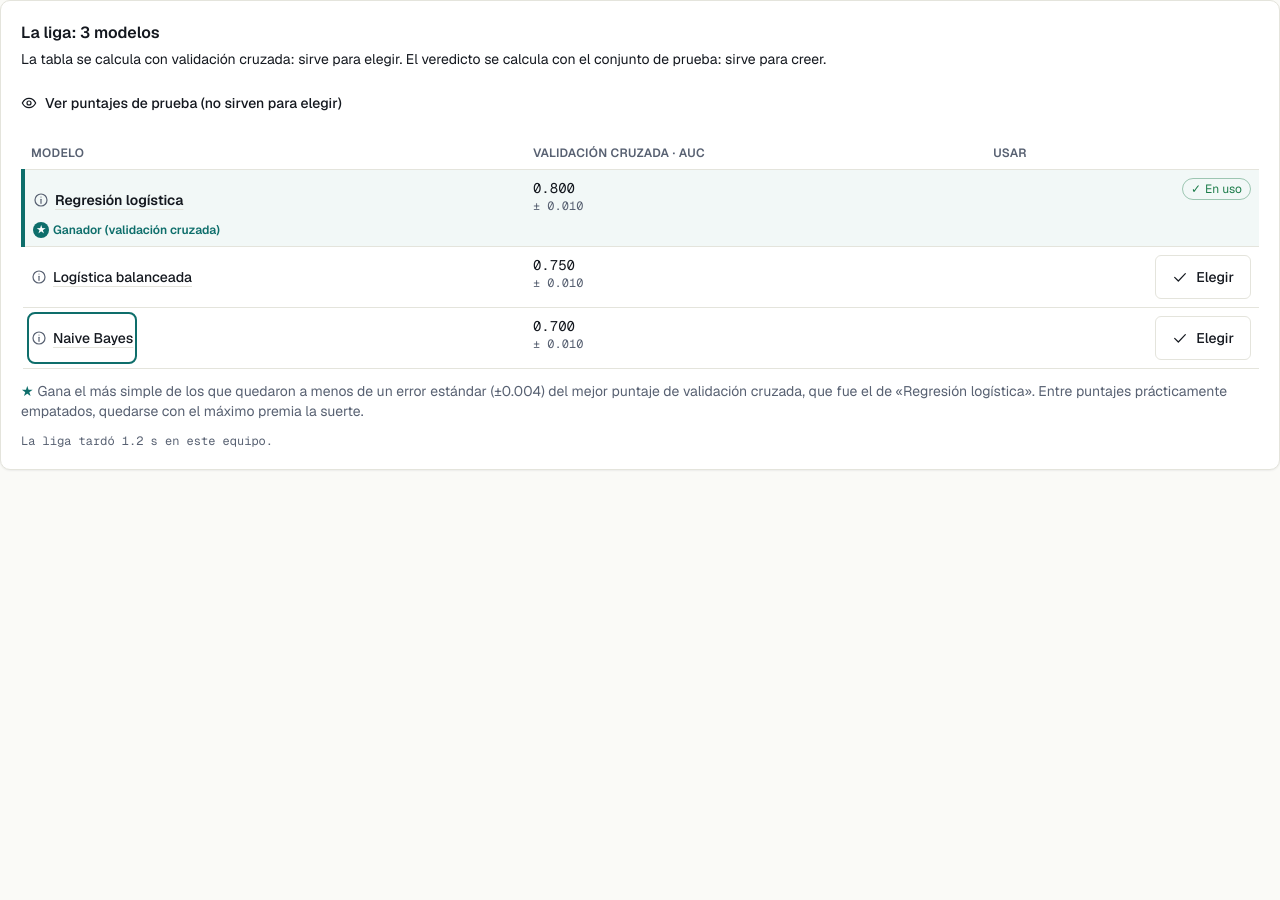
Test: FichaModelo (E3) — desde la tabla de la liga › el nombre abre su ficha: cinco apartados, la línea de estado y el foco vuelve al cerrar
The image size is (1280, 900).
Click the button with aria-label "Ficha de Naive Bayes".
click(82, 338)  # box [31,316,133,360]
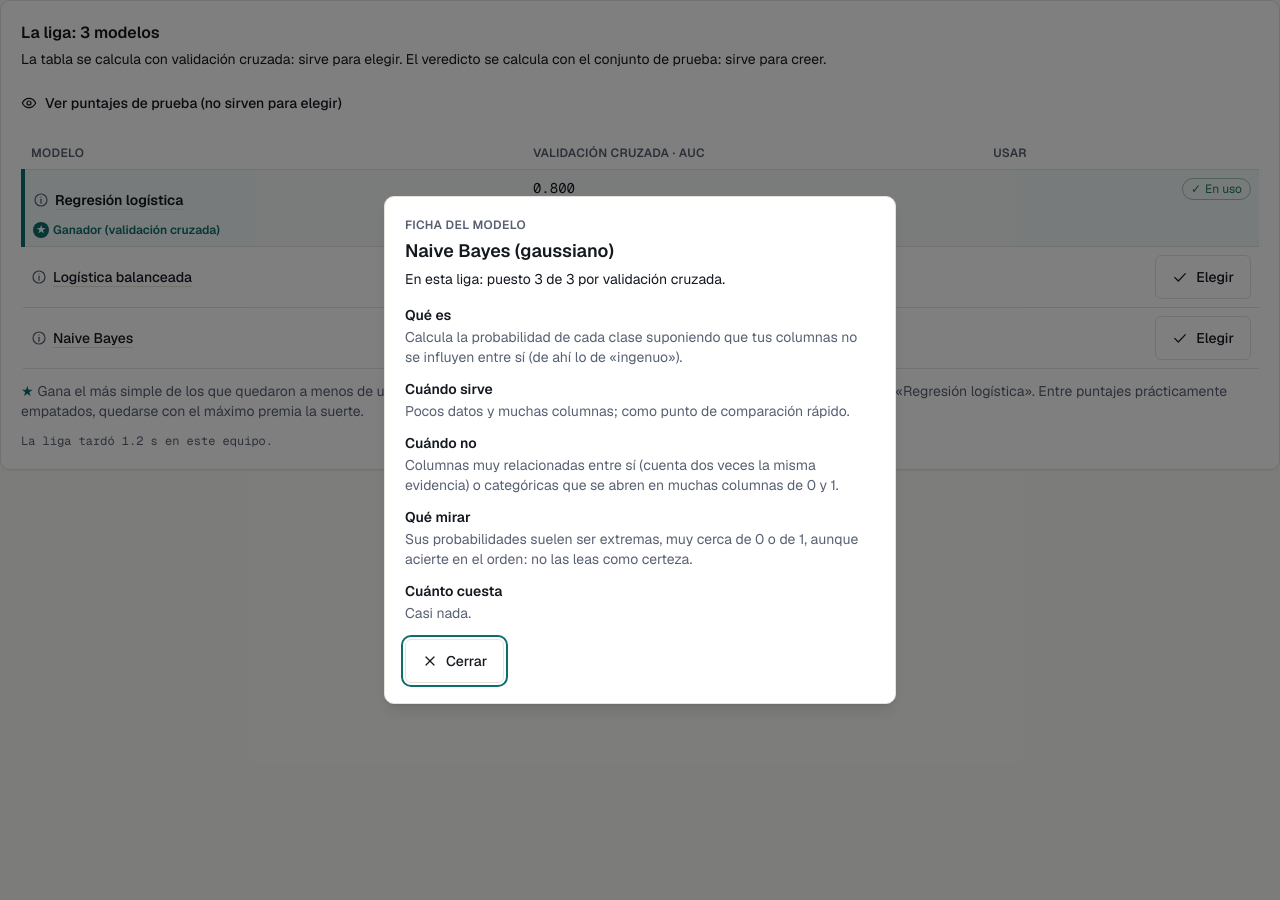
Result: the text "Qué es" is shown at [405,306,451,324]
Result: the text "Cuándo sirve" is shown at [405,380,493,398]
Result: the text "Cuándo no" is shown at [405,434,477,452]
Click the button "Cerrar".
click(455, 661)  # box [405,639,504,683]
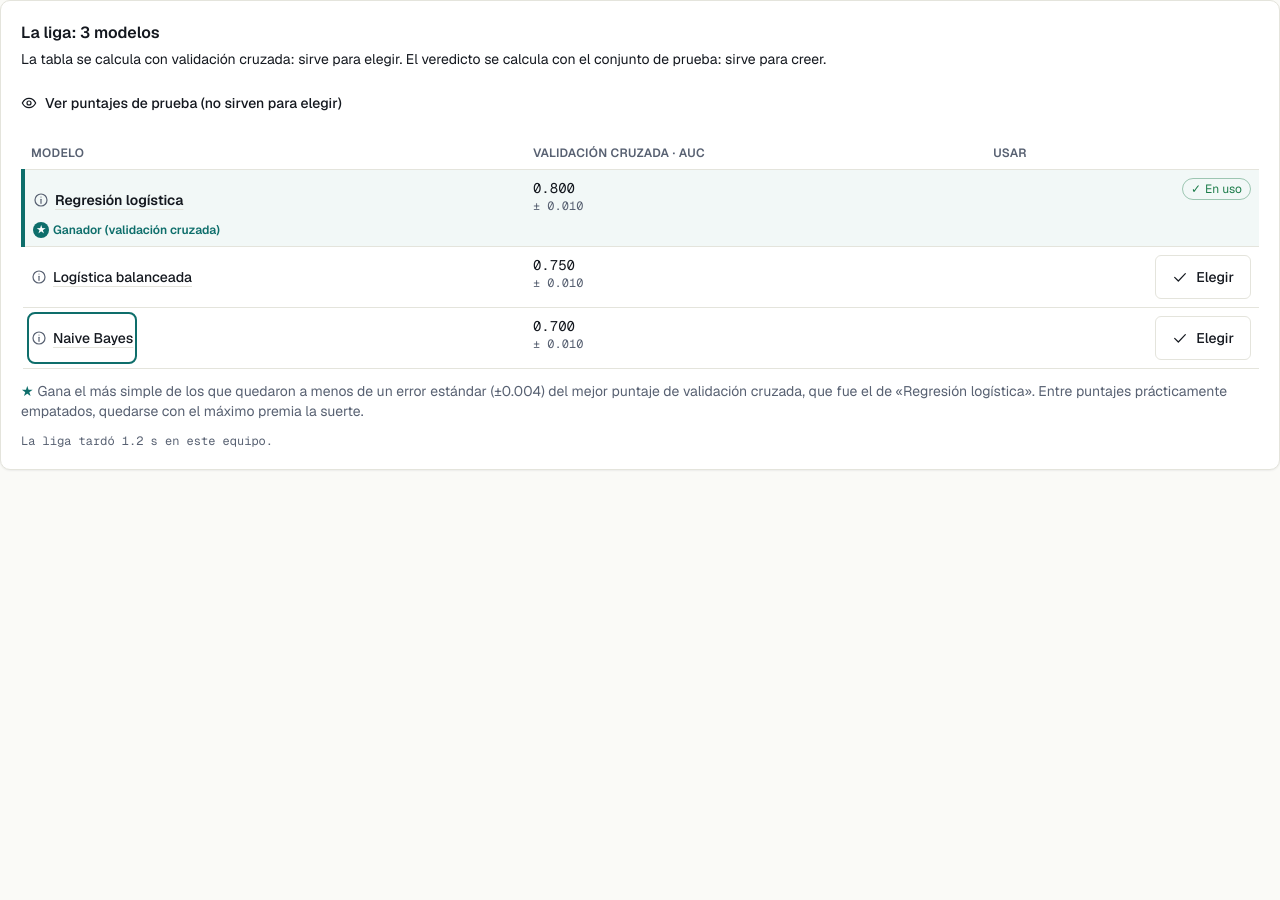
Result: the dialog is gone
